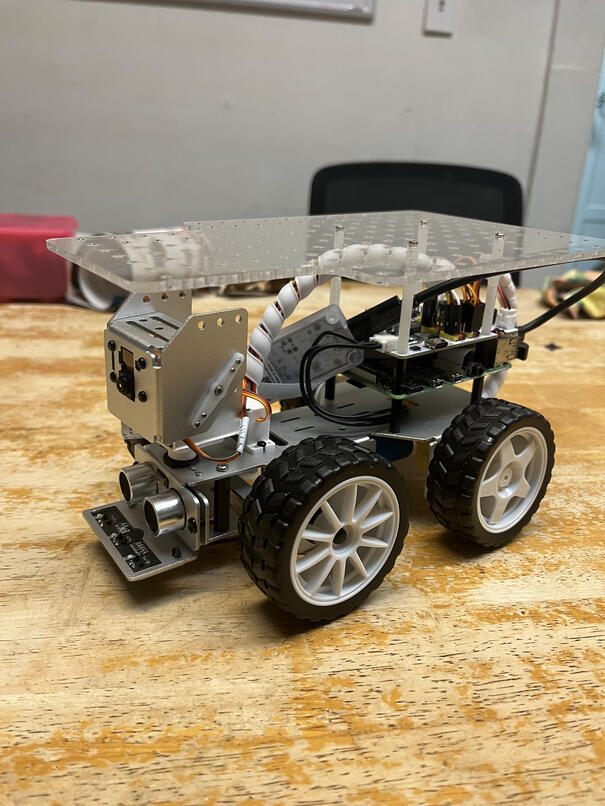vehicle: (35, 211, 605, 627)
